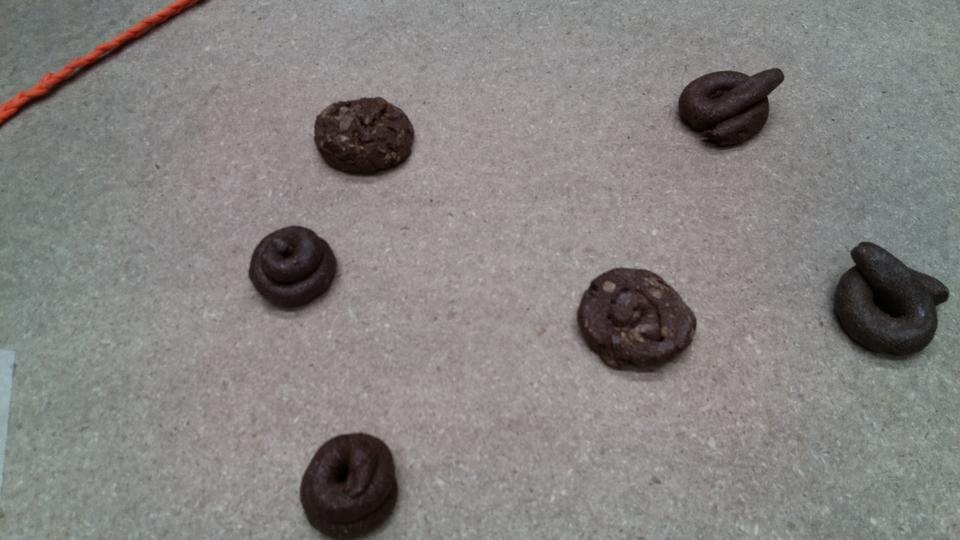poop: (833, 239, 953, 369), (574, 262, 705, 378), (297, 428, 408, 540), (677, 55, 787, 156), (311, 94, 419, 182), (249, 220, 342, 321)
rope: (1, 22, 124, 136), (102, 2, 218, 65)
